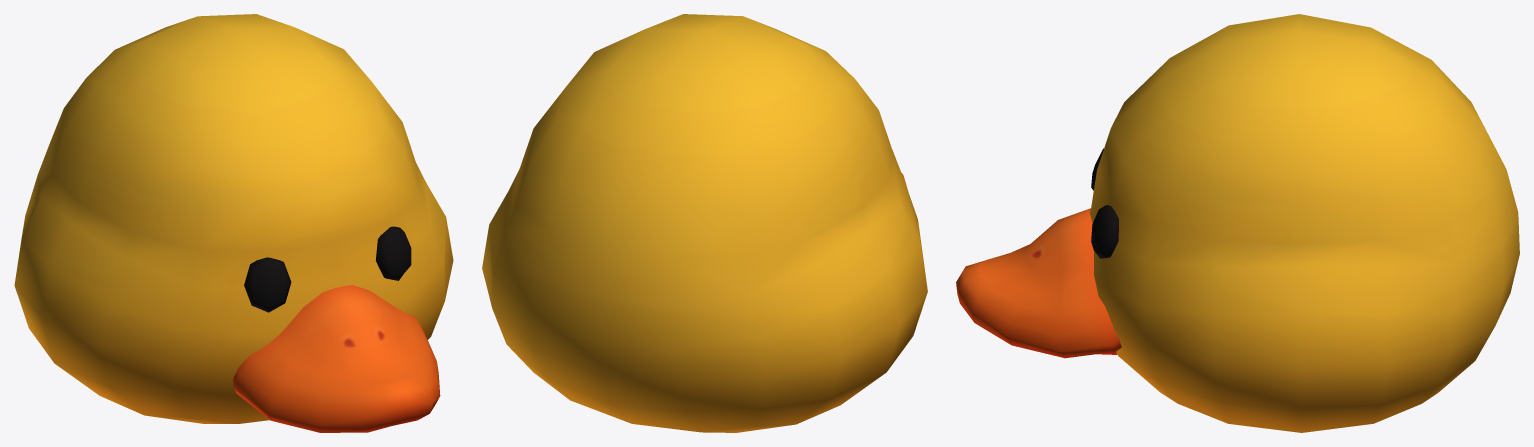
Rendered from owl.fbx.
3 views of the same model, side by side, from view 1: azimuth 30°, elevation 25°; view 2: azimuth 150°, elevation 25°; view 3: azimuth 270°, elevation 25° (orthographic).
Parts seen in each view (by area): view 1: owl; view 2: owl; view 3: owl.
Part boxes in pixels (bbox=[...]): owl: bbox=[14, 14, 453, 432]; owl: bbox=[482, 14, 927, 432]; owl: bbox=[956, 14, 1519, 432].
Size of the model in its own units: 113 by 101 by 142.
